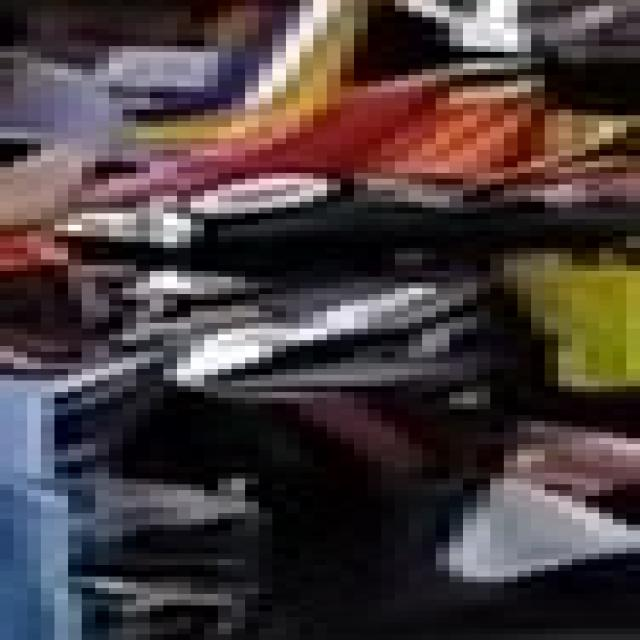door: (0, 340, 163, 634)
helmet: (0, 0, 368, 156)
